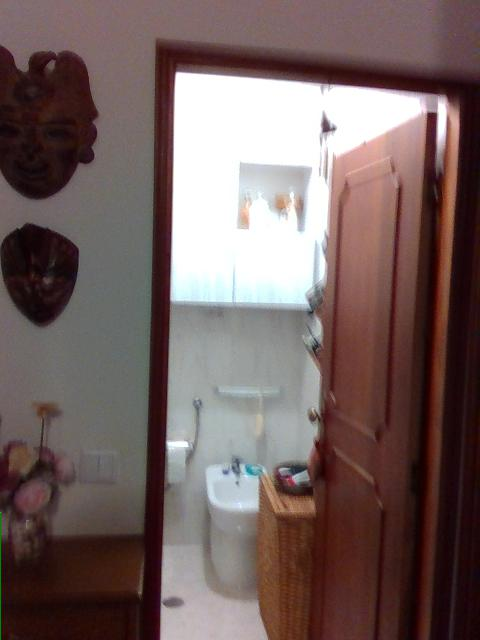open_door: (144, 38, 479, 639)
